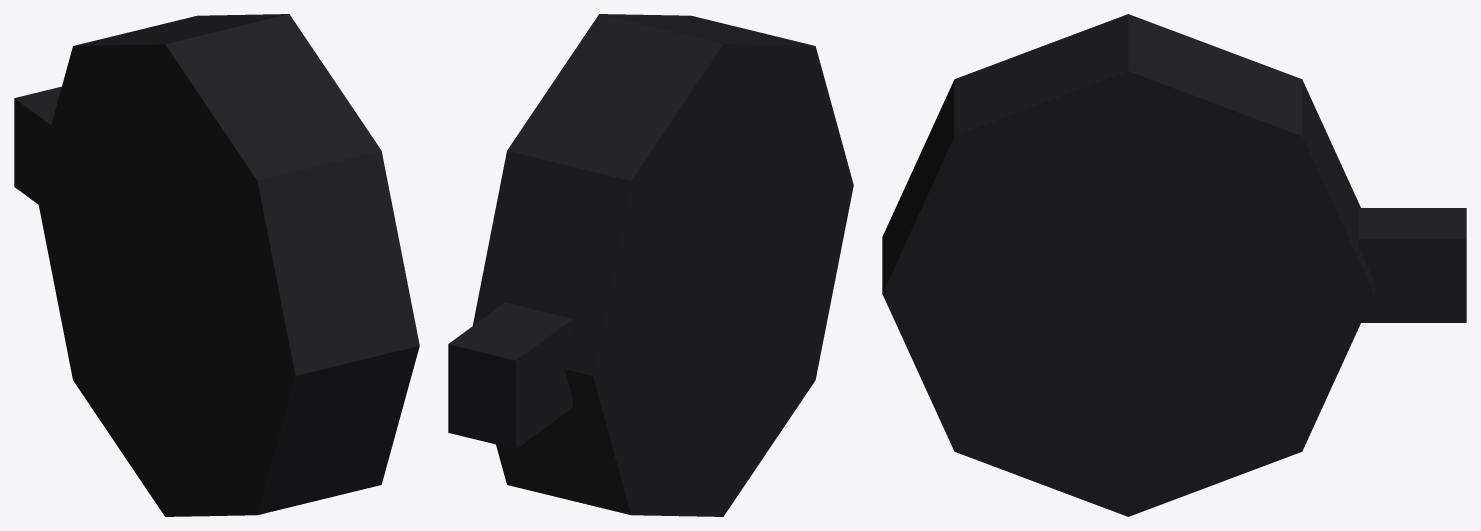
Rendered from PPSh_Drum71.fbx.
3 renders of one model, left to right at view 1: azimuth 30°, elevation 25°; view 2: azimuth 150°, elevation 25°; view 3: azimuth 270°, elevation 25°, orthographic. The views are drawn at different scales.
Parts seen in each view (by area): view 1: prims; view 2: prims; view 3: prims.
Boxes of the visible parts, x1,y1,x2,y2 form: prims: (14,14,419,516); prims: (448,14,853,516); prims: (882,14,1466,516).
Bounding box in the file's own units: 0.0264 × 0.096 × 0.114.
